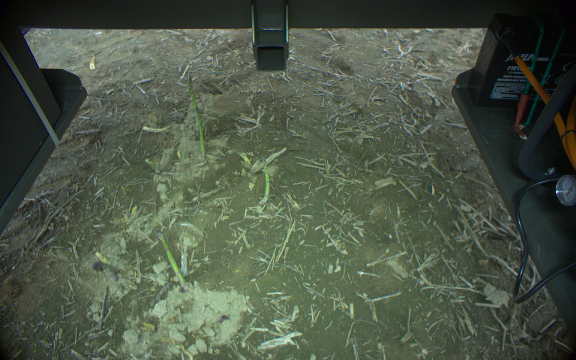aspa: (154, 229, 190, 293), (186, 72, 208, 160), (257, 157, 273, 206), (91, 264, 118, 281), (94, 249, 112, 264)
